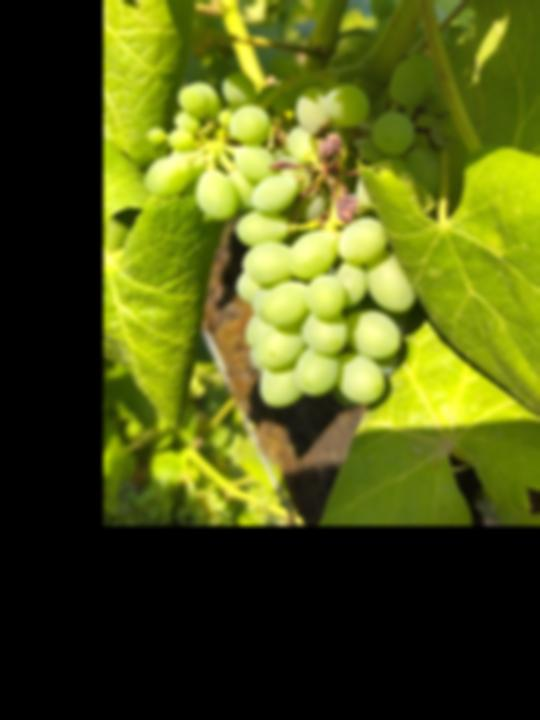grape: (134, 46, 462, 412)
